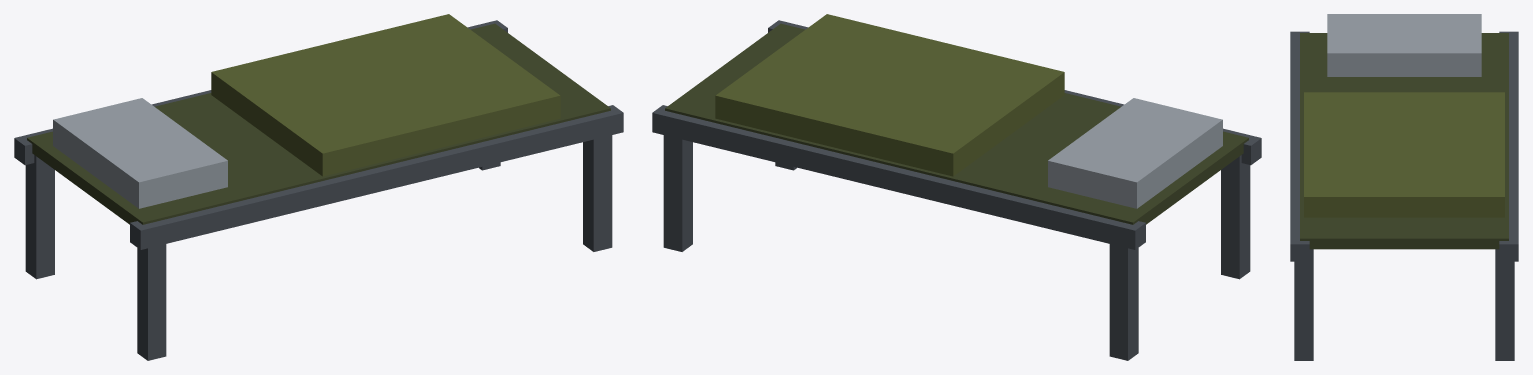
File: prop_cot.fbx
The picture shows the model from 3 angles, left to right: view 1: azimuth 30°, elevation 25°; view 2: azimuth 150°, elevation 25°; view 3: azimuth 270°, elevation 25°; orthographic projection. The views are drawn at different scales.
Visible parts, largest first — view 1: prop_cot; view 2: prop_cot; view 3: prop_cot.
Boxes of the visible parts, x1,y1,x2,y2 form: prop_cot: [14, 14, 623, 360]; prop_cot: [652, 14, 1261, 360]; prop_cot: [1290, 14, 1518, 360].
Bounding box in the file's own units: 650 × 210 × 295.
